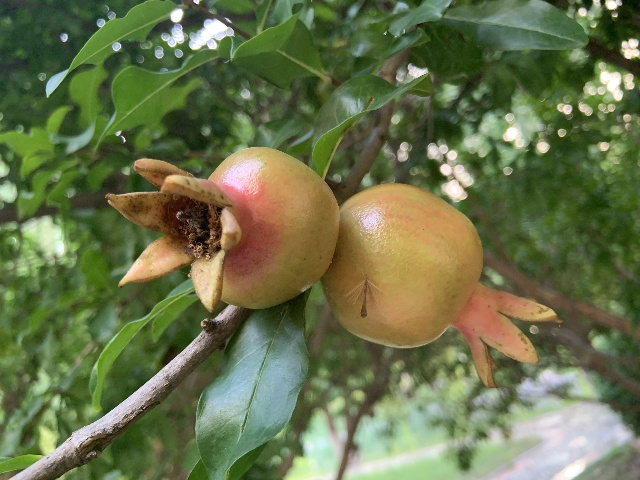mid-growth: (321, 182, 557, 388), (106, 146, 340, 314)
